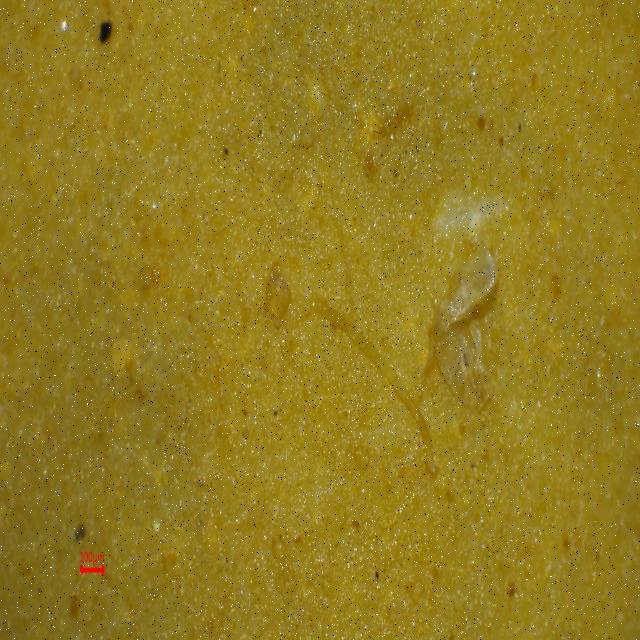fibers: (302, 289, 461, 475)
